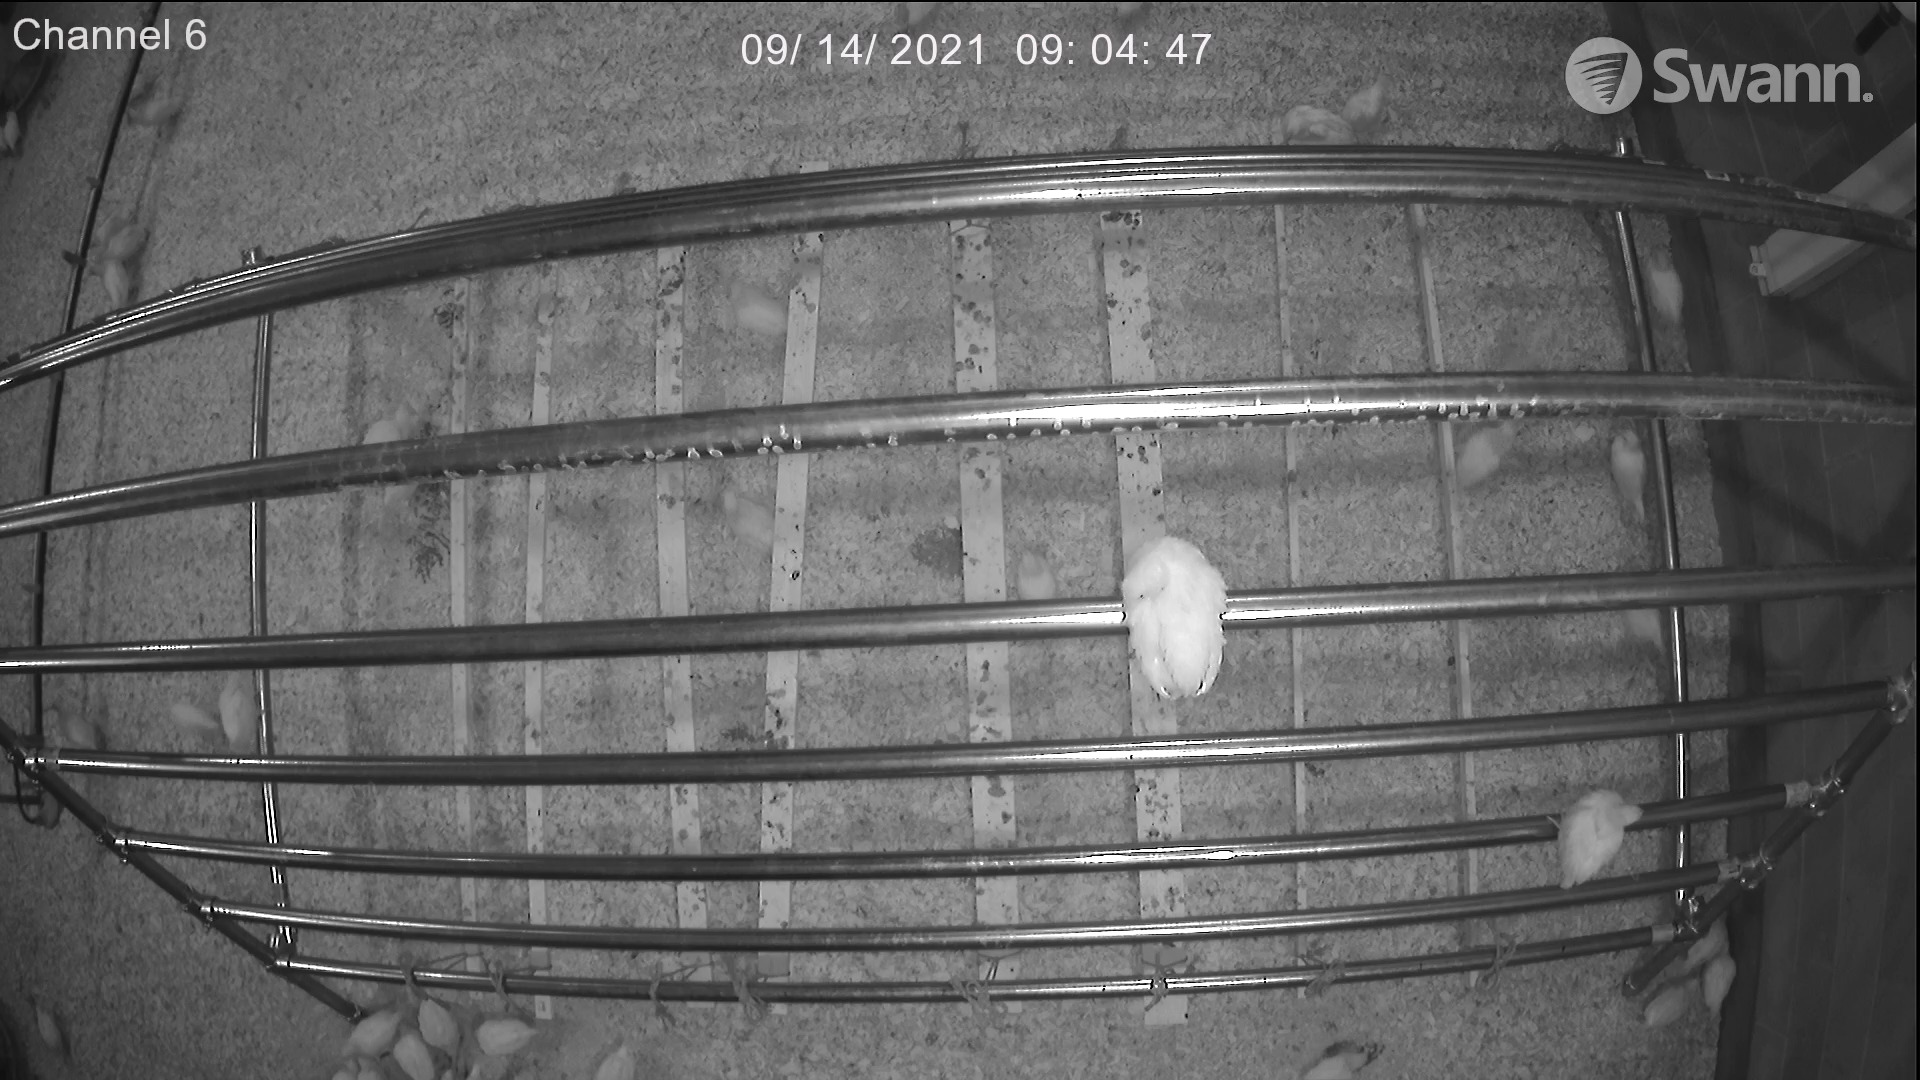Perching: (1052, 521, 1296, 732), (1516, 738, 1677, 924)
